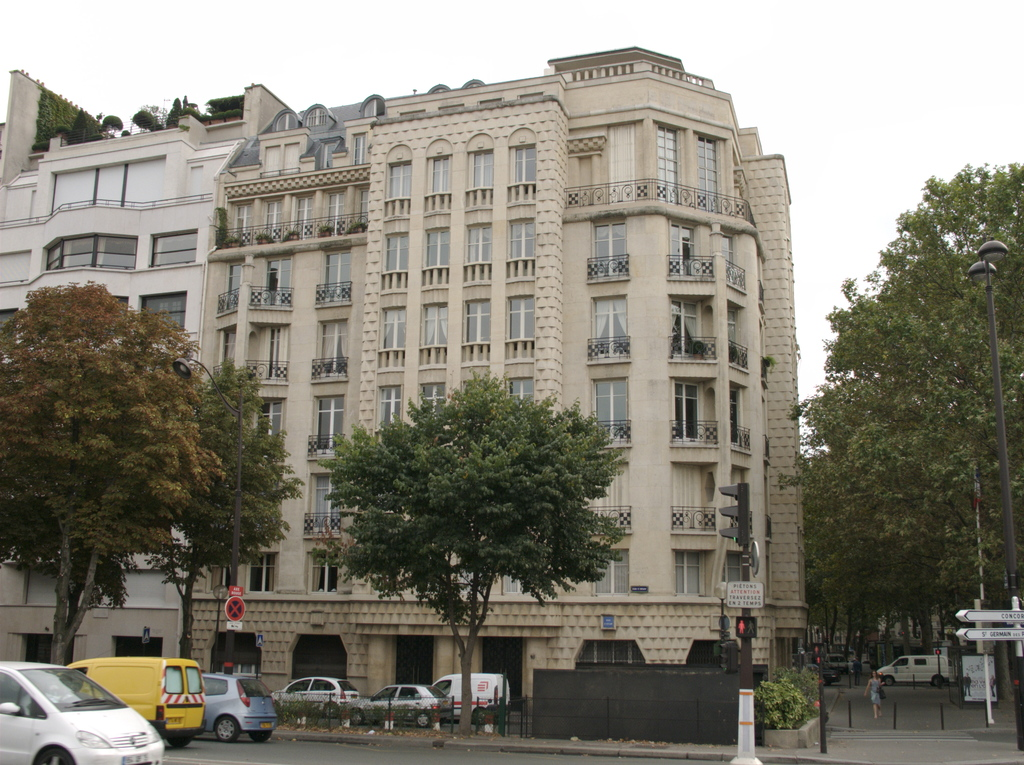Car: (0, 661, 165, 764), (202, 670, 277, 743), (340, 684, 451, 730), (270, 674, 359, 719), (821, 666, 842, 684), (825, 654, 846, 672), (851, 656, 869, 675)
